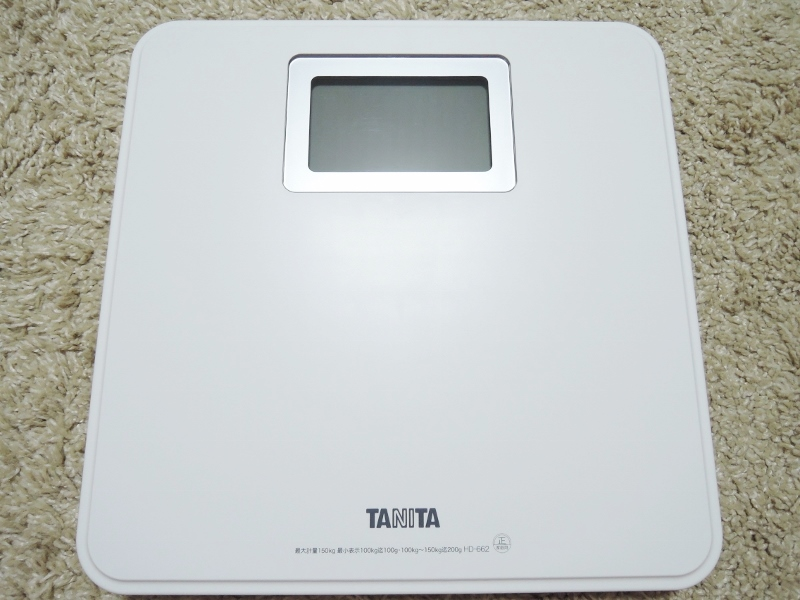LCD: (307, 75, 493, 175)
